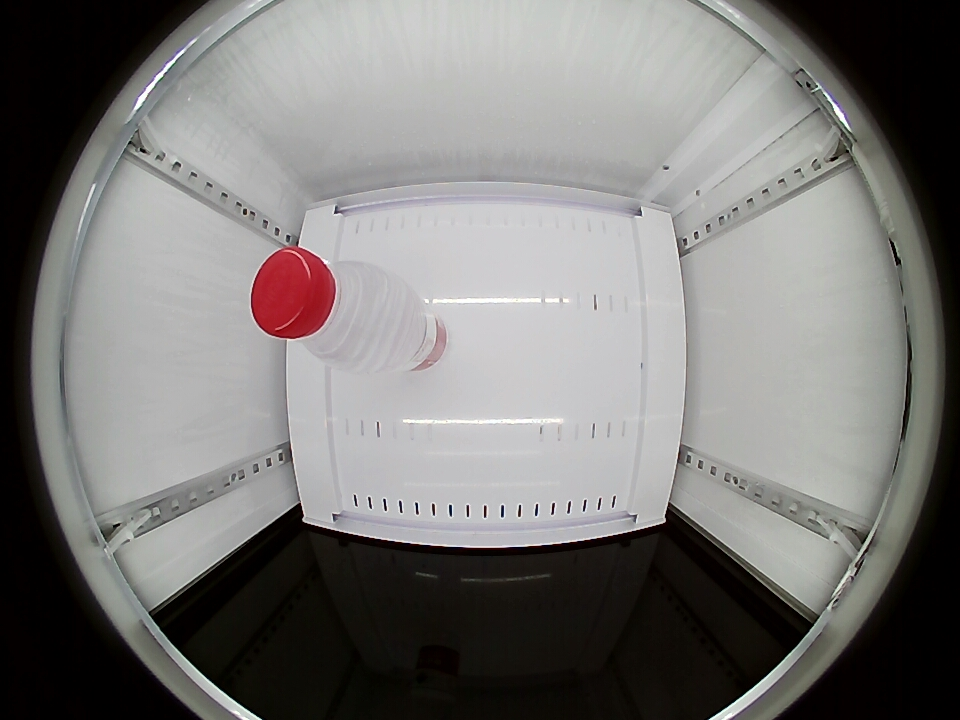nongfushanquan: (251, 247, 394, 369)
